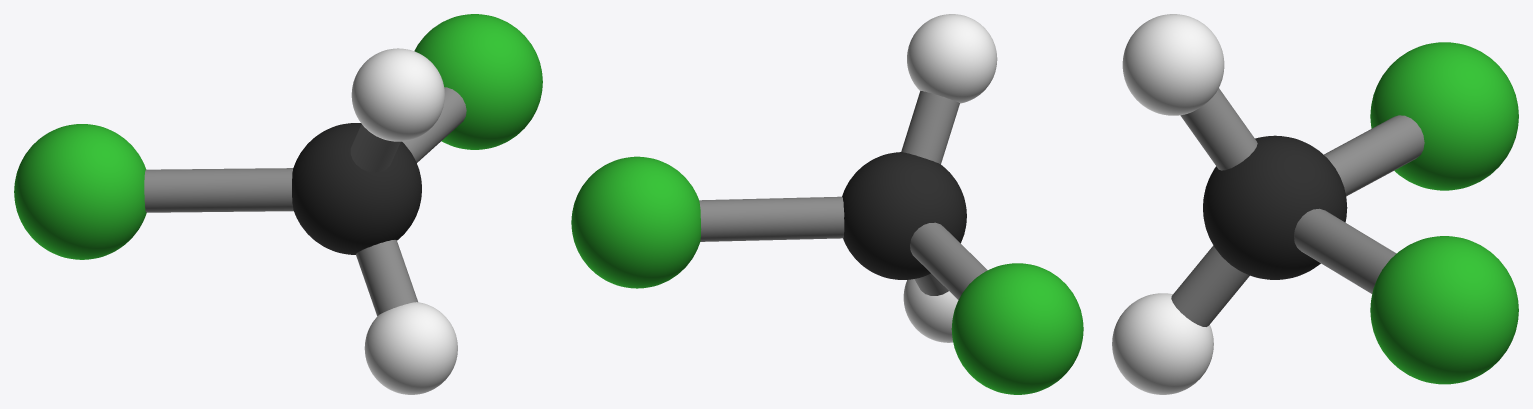
File: dichlormethan.glb
3 renders of one model, left to right at view 1: azimuth 30°, elevation 25°; view 2: azimuth 150°, elevation 25°; view 3: azimuth 270°, elevation 25°, orthographic. The views are drawn at different scales.
Parts seen in each view (by area): view 1: Cl_2, C_1, Cl_0, H_4, H_3, B1, B2, B0, B3; view 2: Cl_2, Cl_0, C_1, H_4, B0, B1, B3, H_3, B2; view 3: Cl_0, Cl_2, C_1, H_4, H_3, B0, B1, B2, B3.
Part boxes in pixels (left/top/right/bottom): Cl_2: left=14, top=124, right=146, bottom=259; C_1: left=292, top=123, right=421, bottom=254; Cl_0: left=414, top=14, right=542, bottom=149; H_4: left=351, top=48, right=444, bottom=141; H_3: left=364, top=302, right=457, bottom=394; B1: left=144, top=168, right=293, bottom=212; B2: left=356, top=240, right=417, bottom=315; B0: left=402, top=87, right=466, bottom=162; B3: left=350, top=124, right=400, bottom=172; Cl_2: left=951, top=263, right=1083, bottom=394; Cl_0: left=571, top=156, right=701, bottom=288; C_1: left=842, top=152, right=966, bottom=279; H_4: left=907, top=14, right=997, bottom=103; B0: left=699, top=196, right=844, bottom=241; B1: left=910, top=222, right=987, bottom=299; B3: left=901, top=91, right=959, bottom=164; H_3: left=903, top=279, right=958, bottom=342; B2: left=914, top=273, right=948, bottom=295; Cl_0: left=1370, top=236, right=1518, bottom=384; Cl_2: left=1370, top=42, right=1518, bottom=190; C_1: left=1203, top=135, right=1347, bottom=279; H_4: left=1122, top=14, right=1224, bottom=115; H_3: left=1112, top=293, right=1213, bottom=394; B0: left=1294, top=208, right=1396, bottom=293; B1: left=1324, top=115, right=1424, bottom=196; B2: left=1171, top=245, right=1249, bottom=326; B3: left=1180, top=88, right=1257, bottom=170.
Size of the model in its own units: 3.79 by 2.38 by 2.4.
